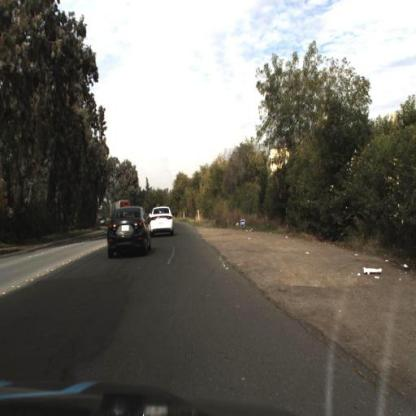car: (107, 205, 152, 260), (148, 198, 178, 241), (151, 206, 178, 238)
